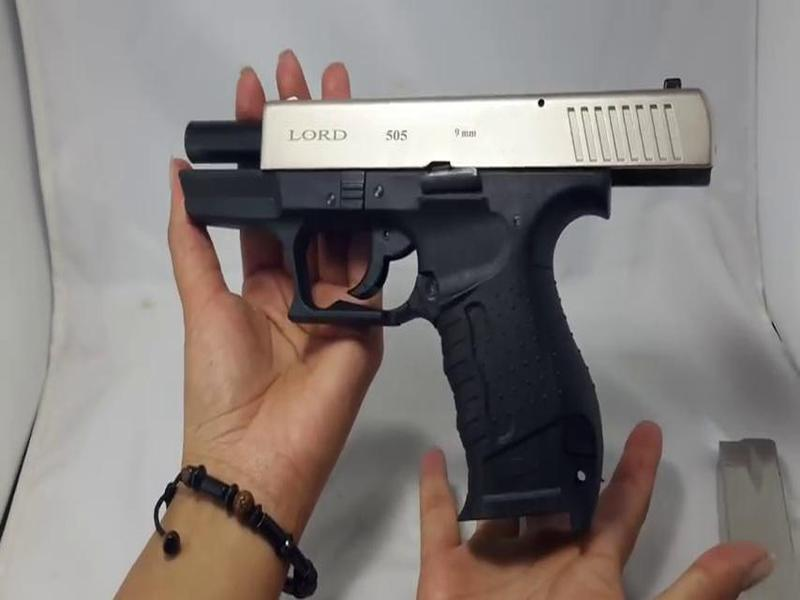Pistola: (152, 74, 734, 541)
